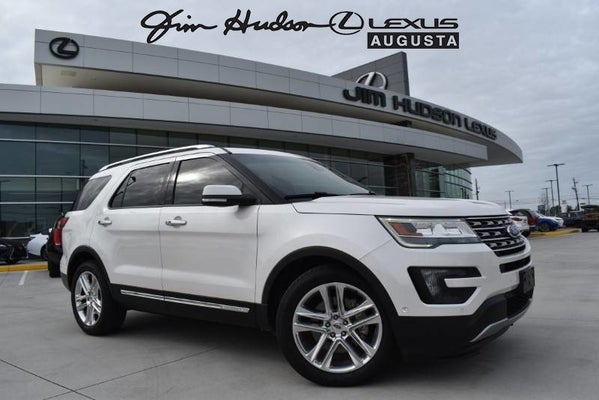Ford Explorer: (59, 142, 538, 387)
